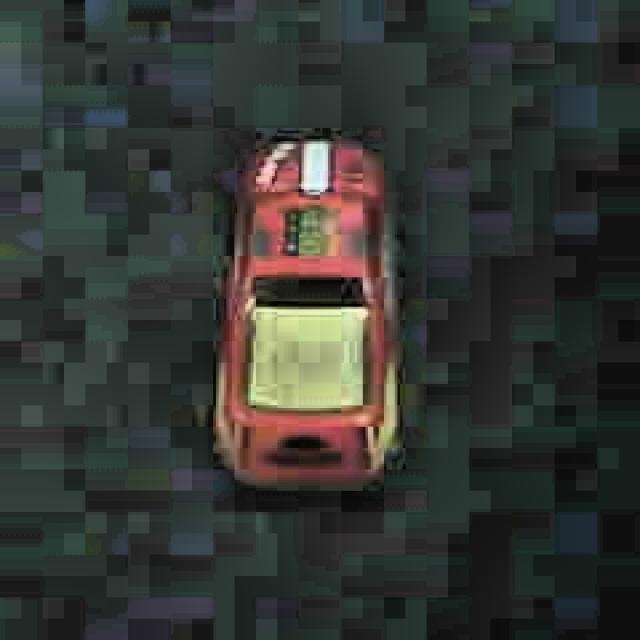car: (213, 128, 410, 493)
